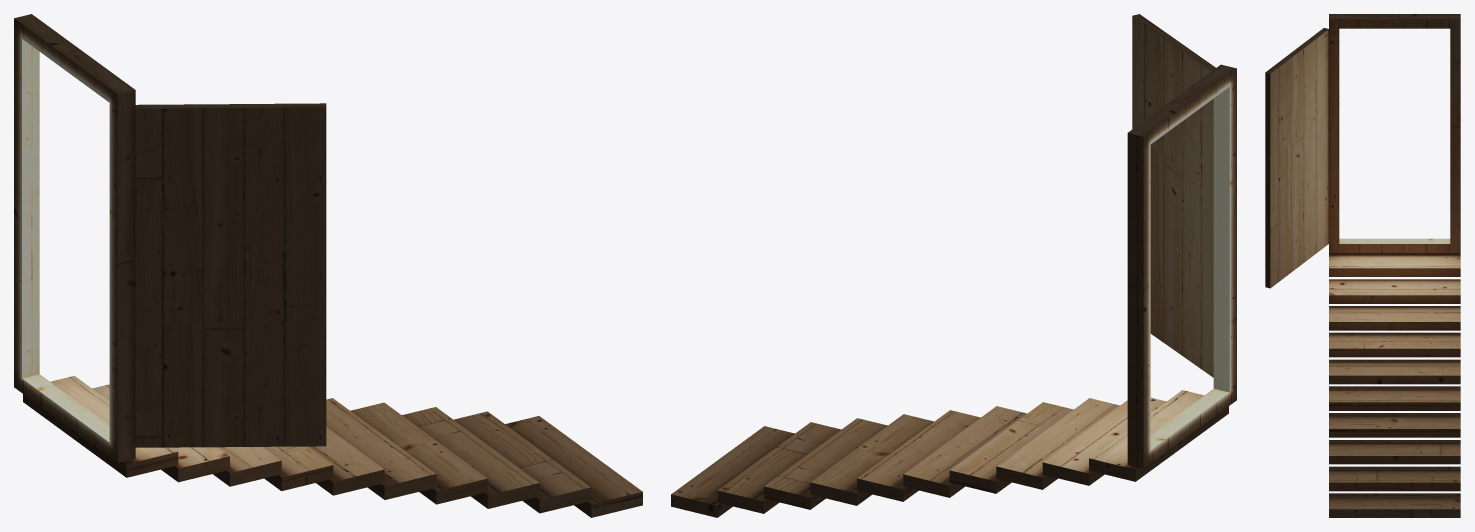
Rendered from stairs.glb.
The picture shows the model from 3 angles, left to right: view 1: azimuth 30°, elevation 25°; view 2: azimuth 150°, elevation 25°; view 3: azimuth 270°, elevation 25°; orthographic projection. The views are drawn at different scales.
Parts seen in each view (by area): view 1: Doorway.Textured.Bake2; view 2: Doorway.Textured.Bake2; view 3: Doorway.Textured.Bake2.
Part boxes in pixels (x1,y1,x2,y2): Doorway.Textured.Bake2: (14,14,642,517); Doorway.Textured.Bake2: (671,14,1236,517); Doorway.Textured.Bake2: (1265,14,1460,517).
Size of the model in its own units: 5.84 by 5.74 by 2.97.
Materials: 1 (1 with a texture image).
